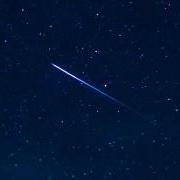meteorite: (45, 62, 125, 100)
